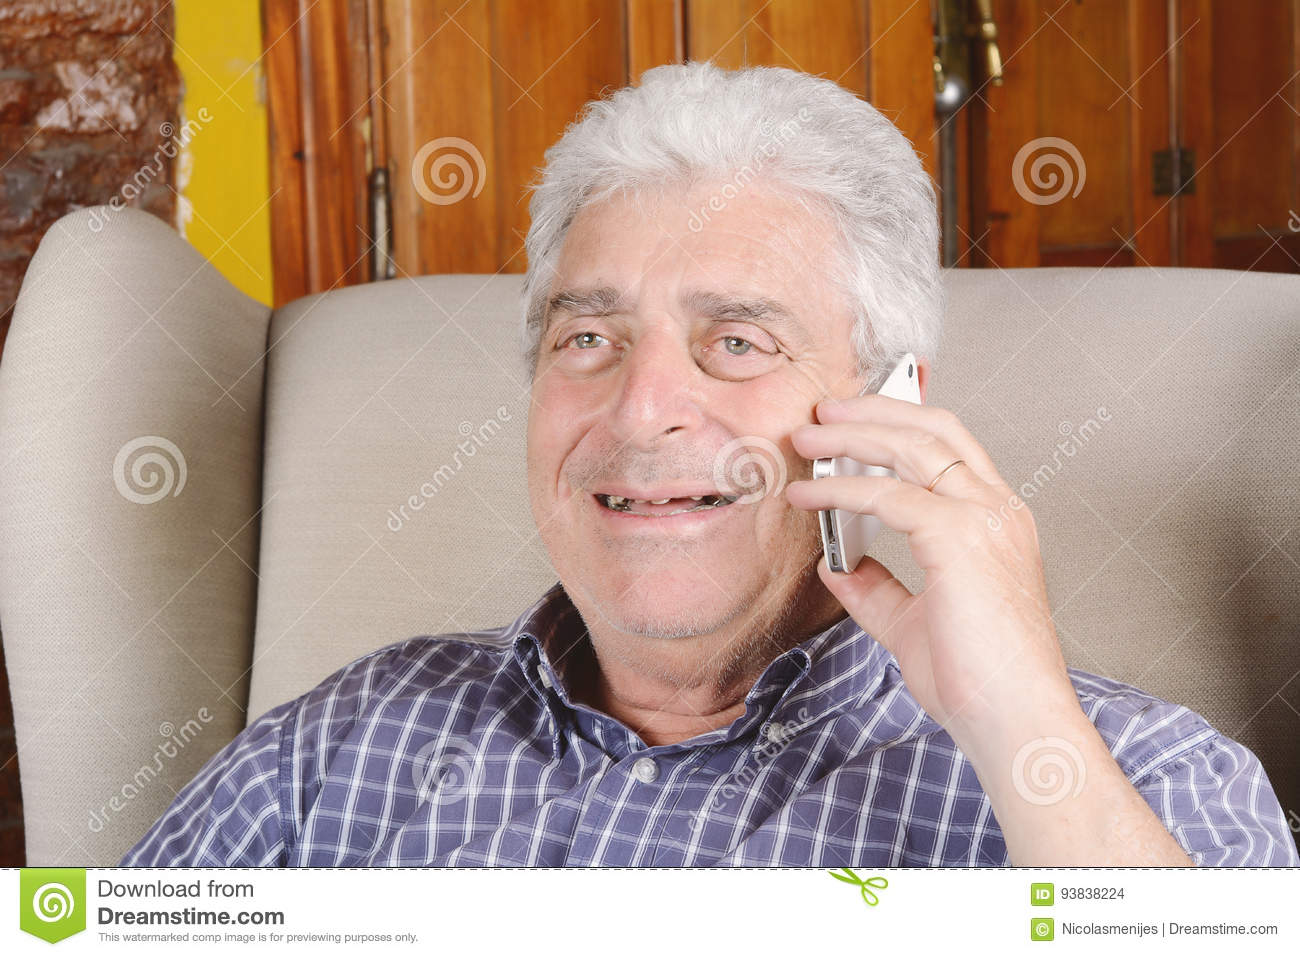phone: (810, 349, 933, 574)
talk: (527, 286, 1071, 772)
